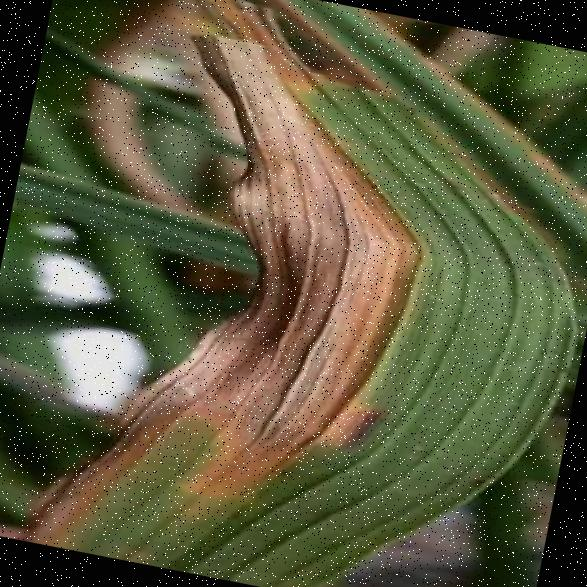Bacteria_Leaf_Blight: (154, 73, 578, 568)
